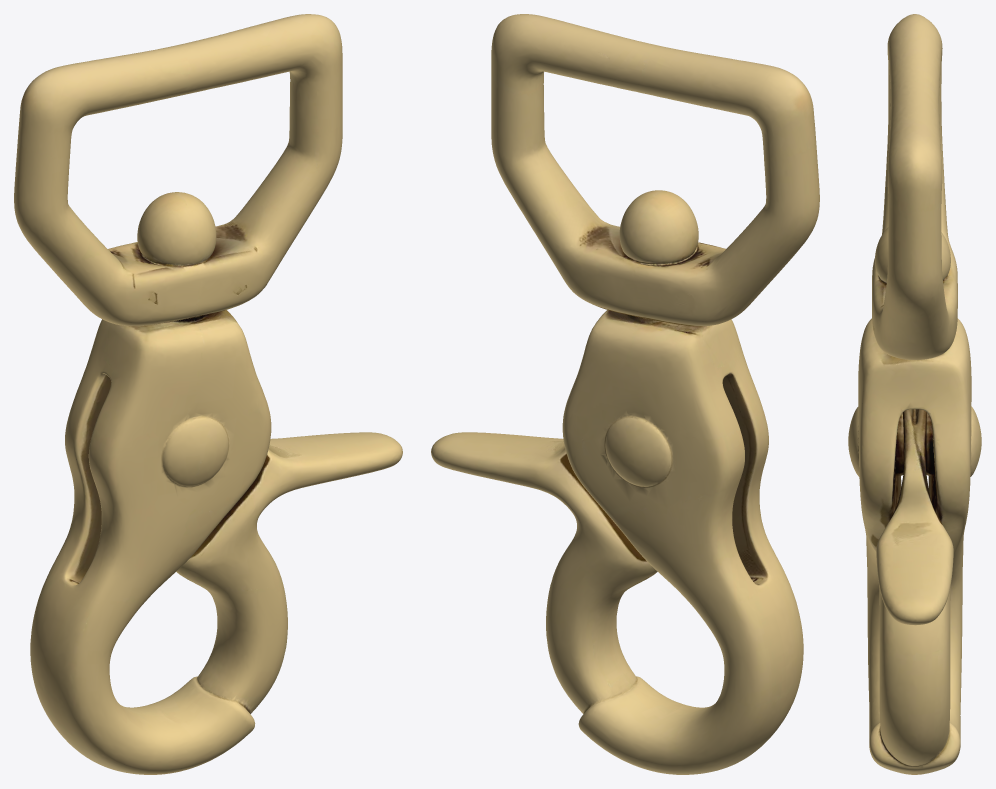
The model's file is kyn3d-mosqueton-gatillo.glb.
The picture shows the model from 3 angles, left to right: view 1: azimuth 30°, elevation 25°; view 2: azimuth 150°, elevation 25°; view 3: azimuth 270°, elevation 25°; orthographic projection. The views are drawn at different scales.
Bounding box in the file's own units: 1.05 × 1.9 × 0.33.
1 material, 1 textured.
